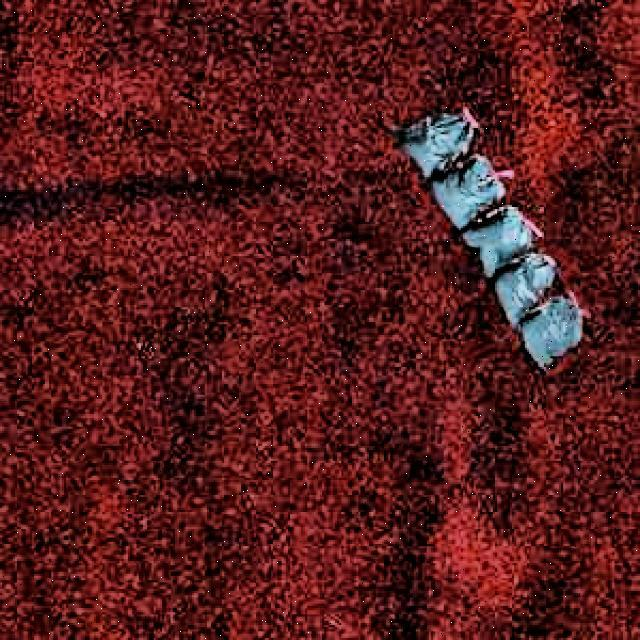Trashbag: (399, 101, 465, 171), (437, 157, 506, 220), (524, 304, 588, 369), (497, 254, 554, 318), (469, 212, 530, 270)
